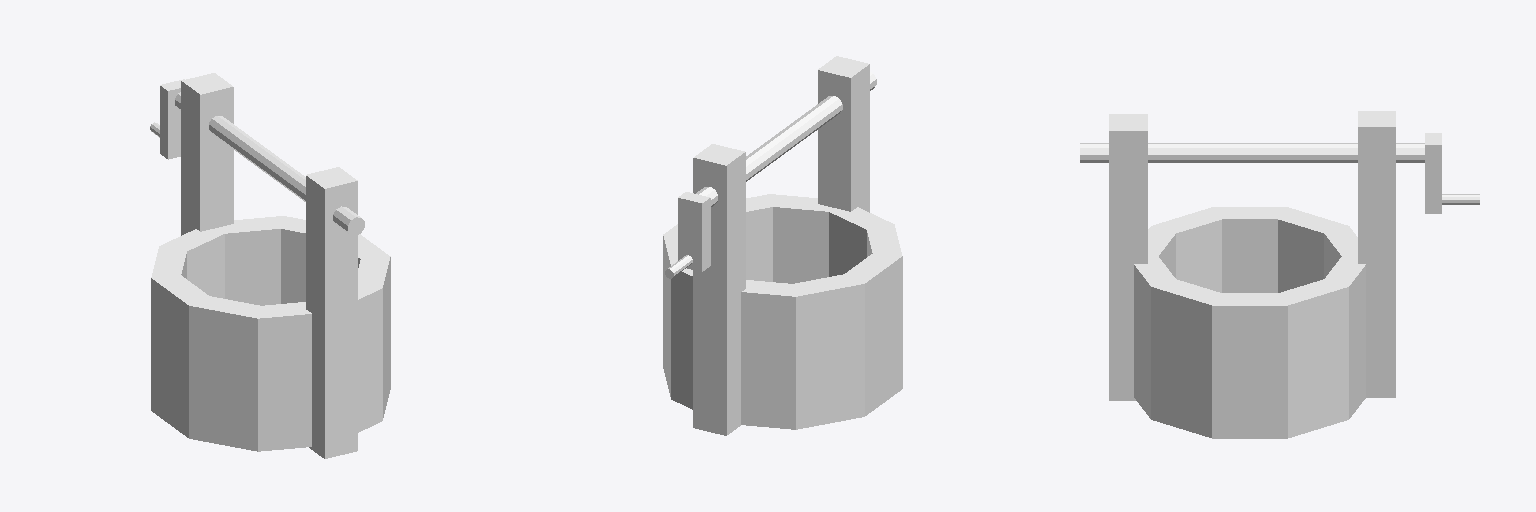
File: Well.obj
3 views of the same model, side by side, from view 1: azimuth 30°, elevation 25°; view 2: azimuth 150°, elevation 25°; view 3: azimuth 270°, elevation 25° (orthographic).
Parts seen in each view (by area): view 1: Cylinder:002.002; view 2: Cylinder:002.002; view 3: Cylinder:002.002.
Boxes of the visible parts, <box> form: Cylinder:002.002: <box>150,73,390,458</box>; Cylinder:002.002: <box>663,56,902,435</box>; Cylinder:002.002: <box>1080,111,1479,438</box>.
Size of the model in its own units: 0.5622 by 0.7292 by 0.9685.